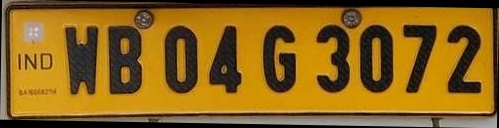character: (106, 23, 144, 95), (313, 23, 351, 95), (61, 24, 99, 94), (260, 24, 298, 94), (445, 24, 483, 94), (401, 22, 437, 93), (162, 25, 199, 94), (358, 24, 394, 94), (207, 23, 242, 94)
